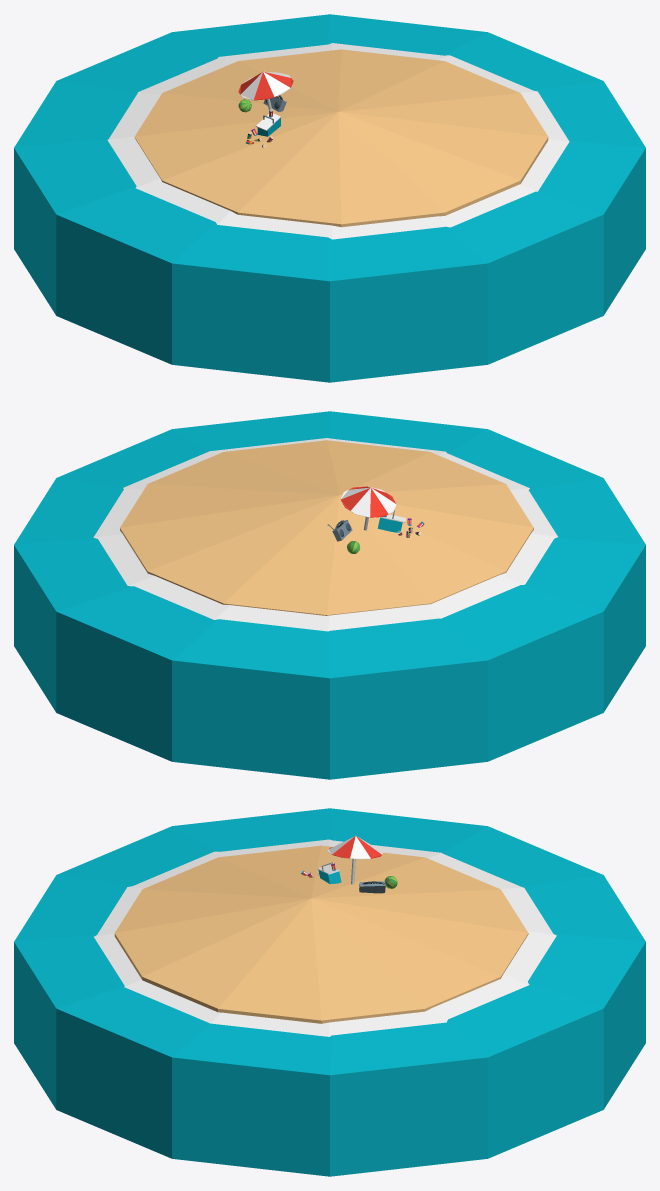
File: scene_JPOI9GdX11.glb
3 renders of one model, top to bottom at view 1: azimuth 30°, elevation 25°; view 2: azimuth 150°, elevation 25°; view 3: azimuth 270°, elevation 25°, orthographic.
Parts seen in each view (by area): view 1: Node; view 2: Node; view 3: Node.
Boxes of the visible parts, x1,y1,x2,y2 form: Node: (14, 14, 645, 382); Node: (14, 411, 645, 779); Node: (14, 808, 645, 1176).
Bounding box in the file's own units: 7.64 × 2.42 × 7.64.
